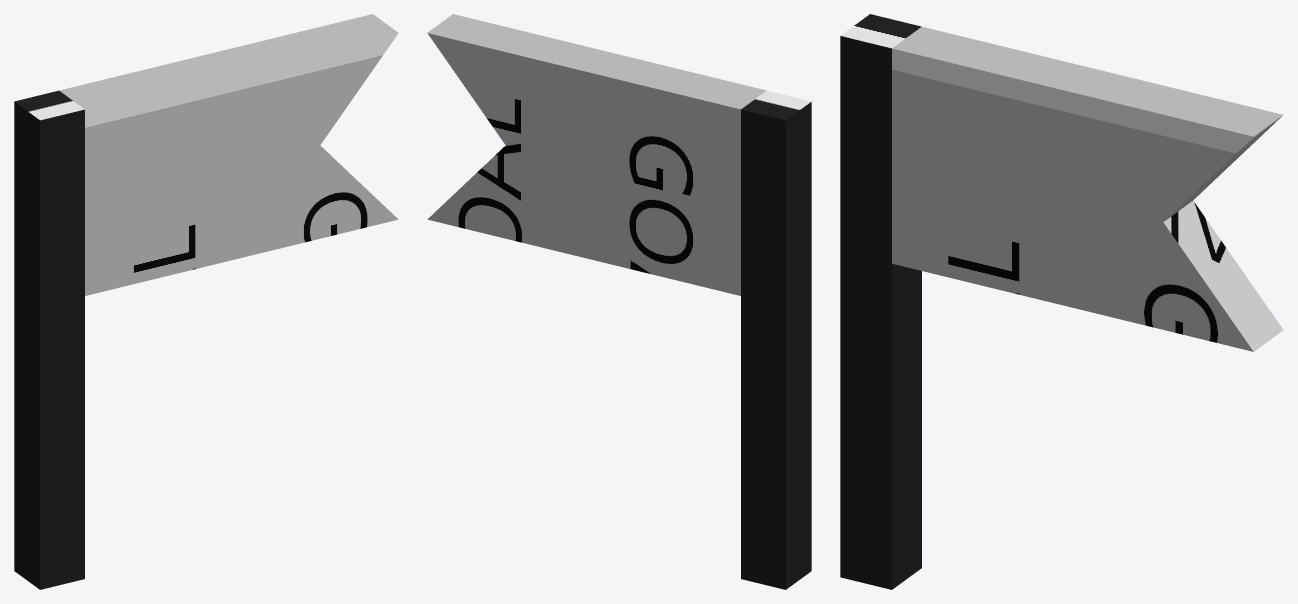
The model's file is goal.obj.
3 views of the same model, side by side, from view 1: azimuth 30°, elevation 25°; view 2: azimuth 150°, elevation 25°; view 3: azimuth 330°, elevation 25° (orthographic). The views are drawn at different scales.
Parts seen in each view (by area): view 1: 立方体.002; view 2: 立方体.002; view 3: 立方体.002.
Part boxes in pixels (bbox=[...]): 立方体.002: bbox=[14, 14, 398, 589]; 立方体.002: bbox=[427, 14, 811, 589]; 立方体.002: bbox=[840, 14, 1283, 589].
Size of the model in its own units: 0.7993 by 1 by 0.1.
